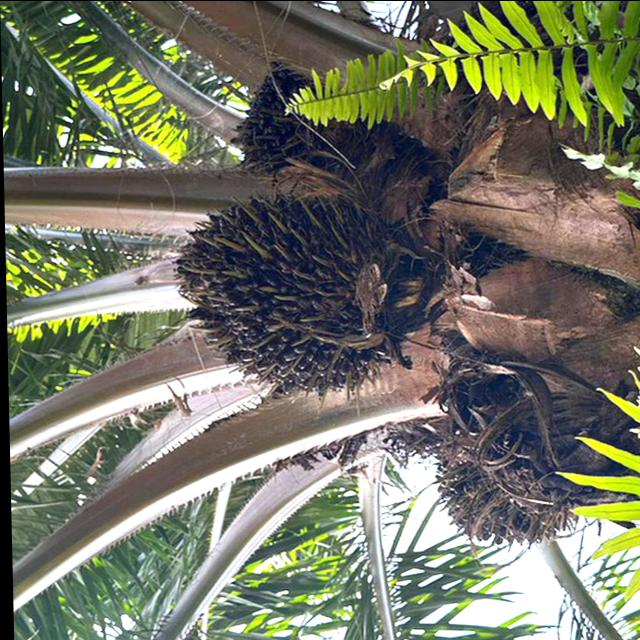almost: (160, 178, 408, 420)
